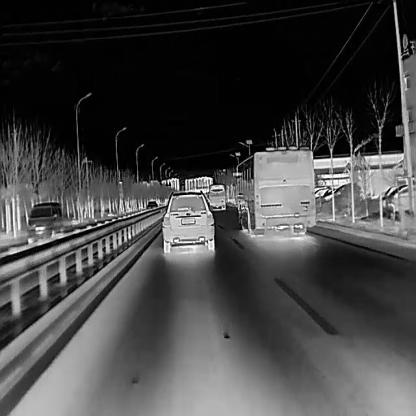bus: (232, 144, 315, 236), (207, 182, 226, 210)
car: (160, 188, 214, 252), (25, 201, 60, 245), (376, 182, 416, 214), (144, 198, 158, 216)
